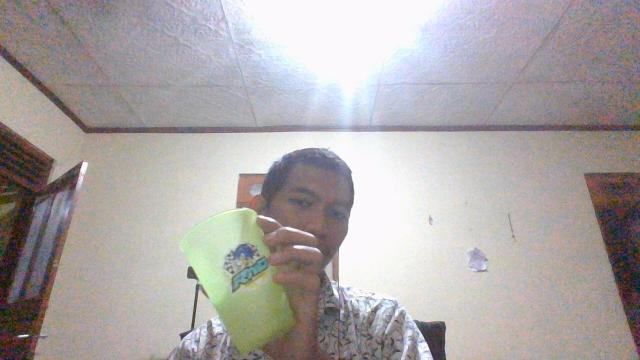botol-hijau: (178, 206, 300, 354)
